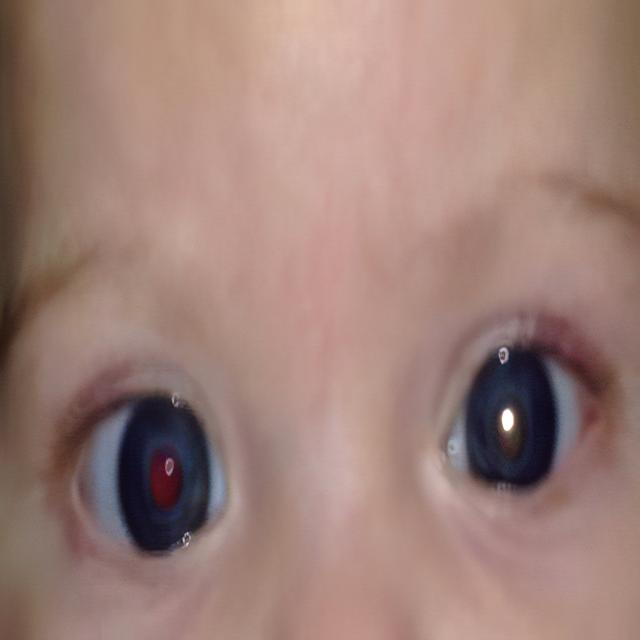reflexo-alterado: (430, 336, 606, 510)
reflexo-normal: (48, 386, 242, 580)
